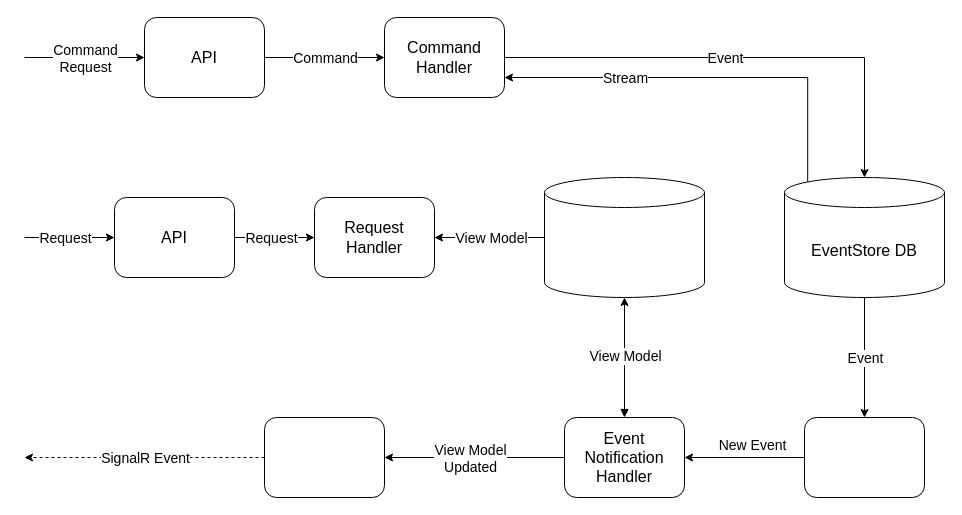
This 962x515 diagram has some shape labels left out. Here are the shapes that lost their labels. From the top down, the box of each, then its label:
(544, 176, 704, 298): SQL DB
(264, 416, 384, 498): Model SignalR Hub
(804, 416, 924, 498): Event Subscriber
